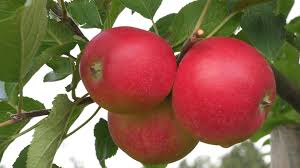tao: (176, 31, 279, 149), (80, 27, 175, 110)
